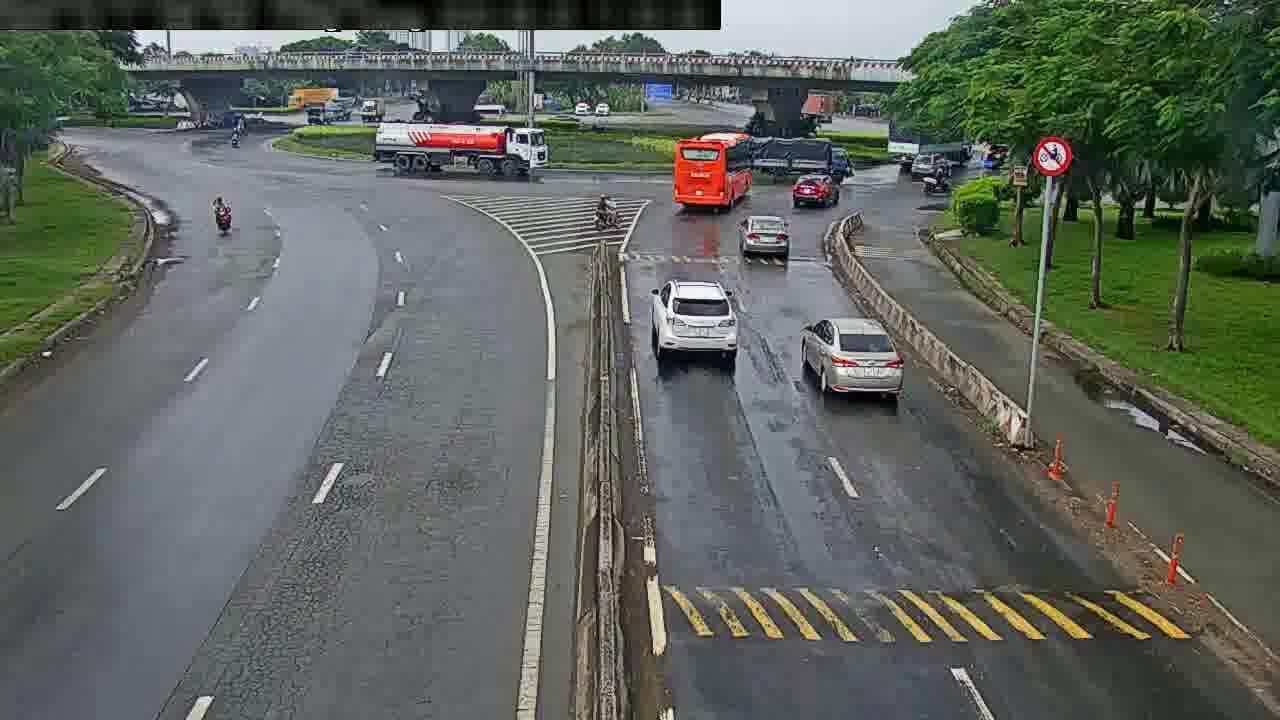14: (669, 127, 756, 213)
8: (368, 116, 556, 185), (754, 129, 853, 181)
container: (793, 311, 905, 400), (644, 279, 746, 364), (740, 211, 792, 266), (788, 173, 845, 207), (907, 152, 953, 184)
motorbike: (208, 189, 235, 237), (590, 194, 618, 239)
